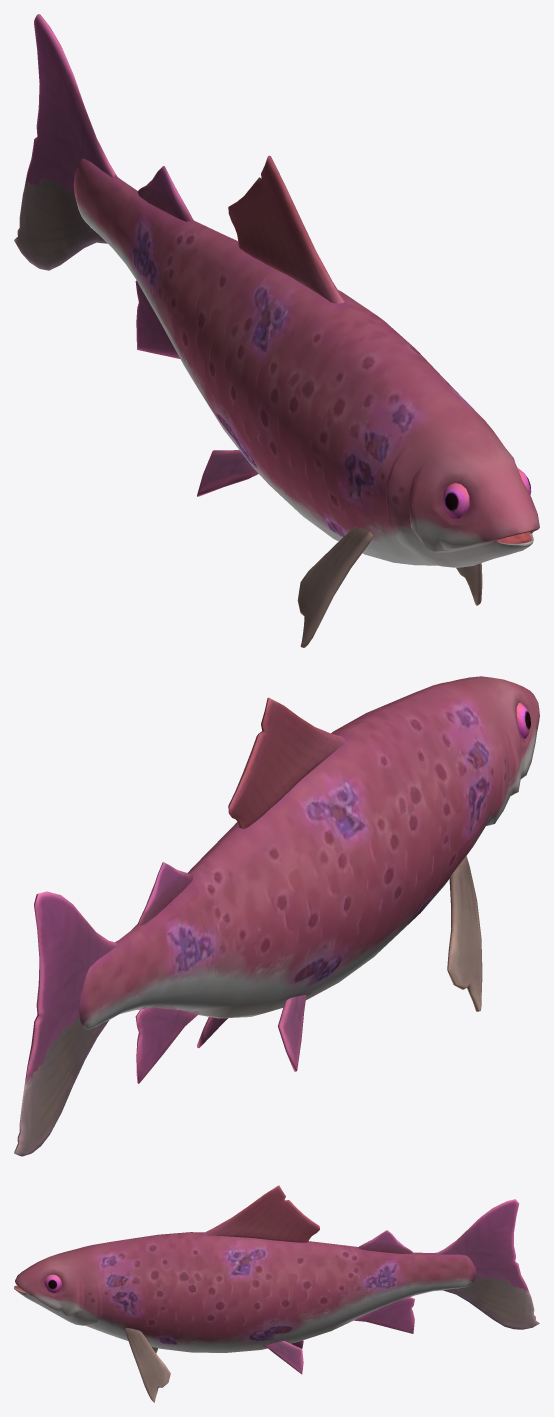
3 views of the same model, one above another, from view 1: azimuth 30°, elevation 25°; view 2: azimuth 150°, elevation 25°; view 3: azimuth 270°, elevation 25° (orthographic). The views are drawn at different scales.
Parts seen in each view (by area): view 1: SM_Fish_Unusual_Trout_01_LOD0; view 2: SM_Fish_Unusual_Trout_01_LOD0; view 3: SM_Fish_Unusual_Trout_01_LOD0.
Boxes of the visible parts, <box> form: SM_Fish_Unusual_Trout_01_LOD0: <box>14,14,539,647</box>; SM_Fish_Unusual_Trout_01_LOD0: <box>14,676,539,1156</box>; SM_Fish_Unusual_Trout_01_LOD0: <box>14,1185,539,1402</box>.
Size of the model in its own units: 0.1154 by 0.2339 by 0.5693.
